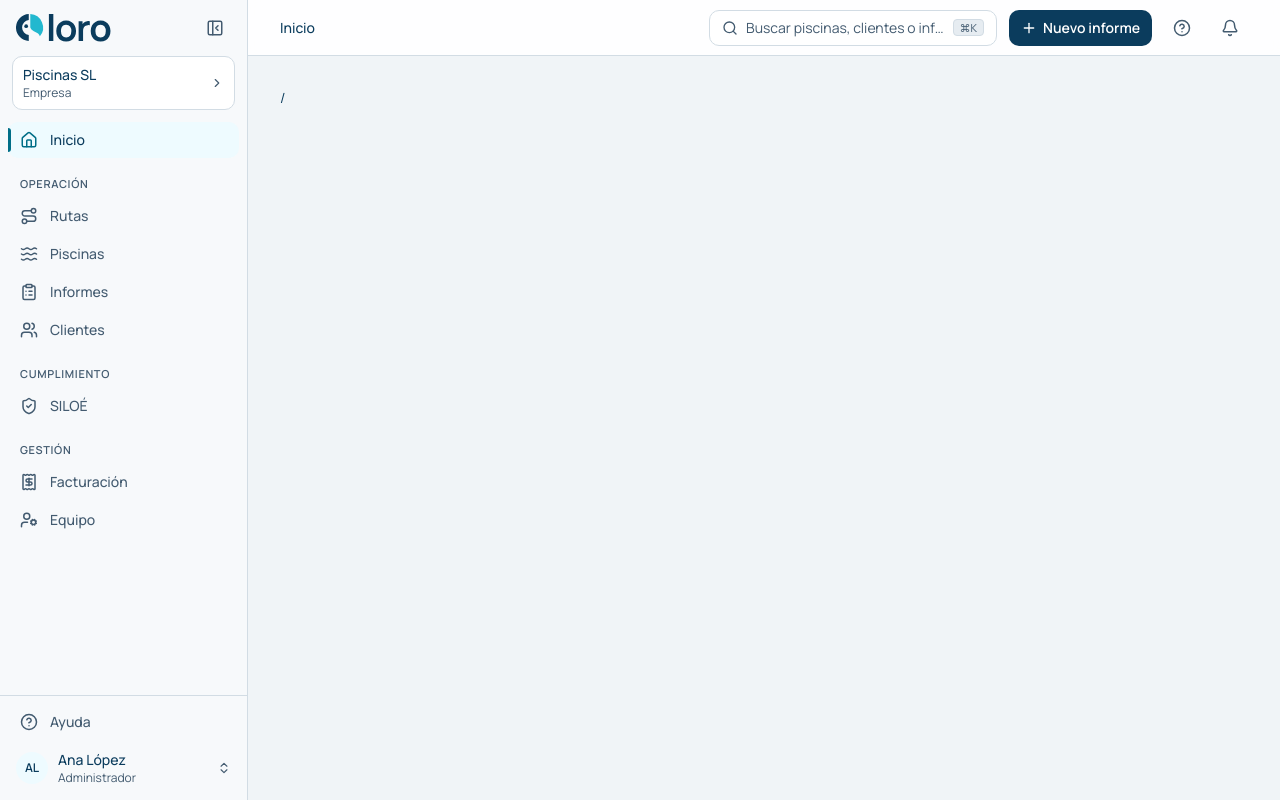
Test: AppShell command palette › deep-links a search into Informes
Press k
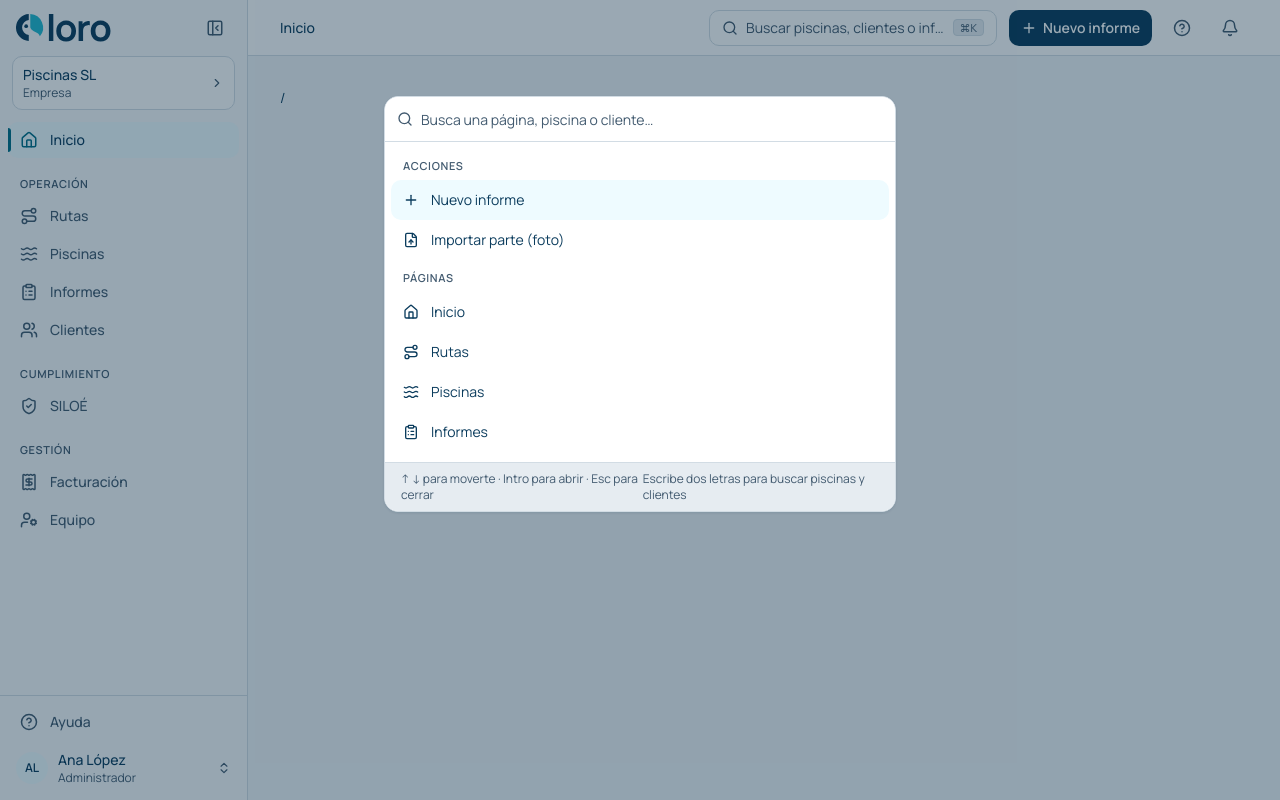
In the dropdown named "Ir a una página": [652, 119] box x1=421 y1=97 x2=883 y2=141, type "villa"
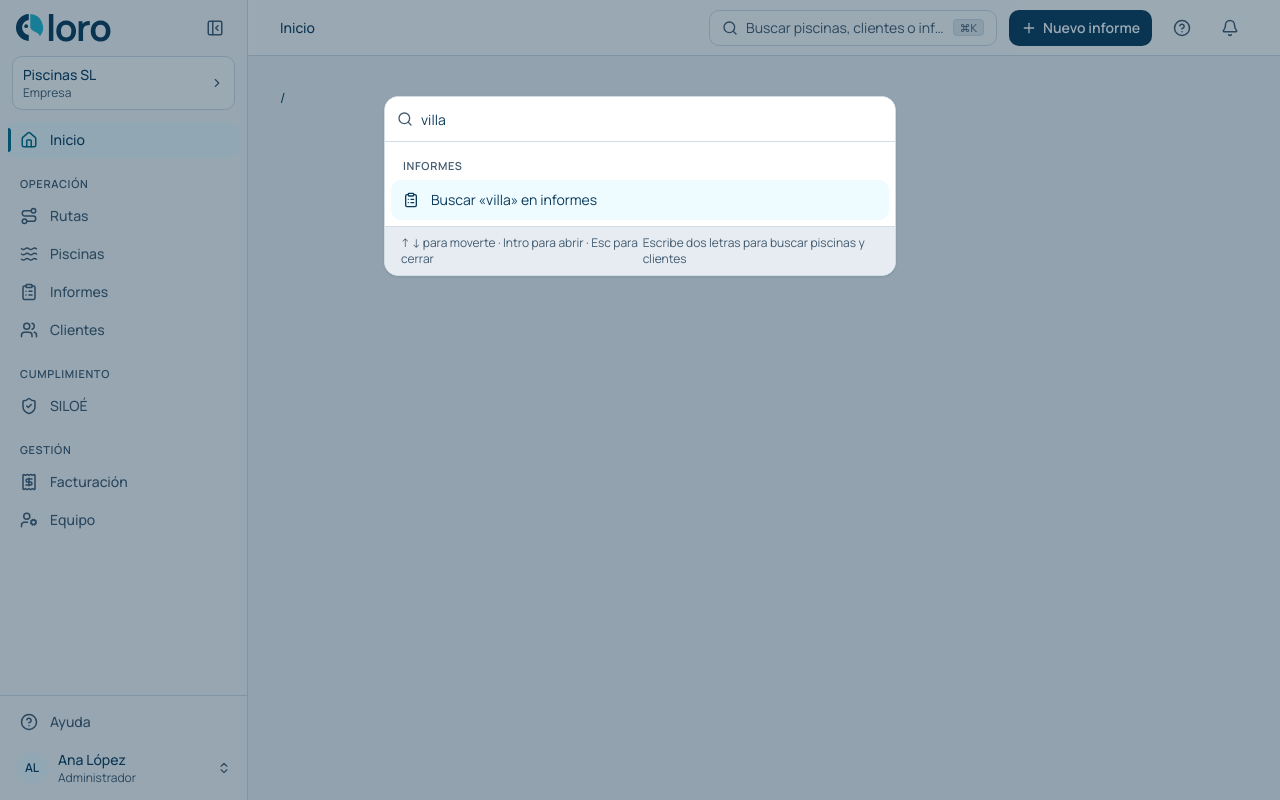
Click the option "Buscar «villa» en informes": [514, 200] box x1=391 y1=180 x2=889 y2=220
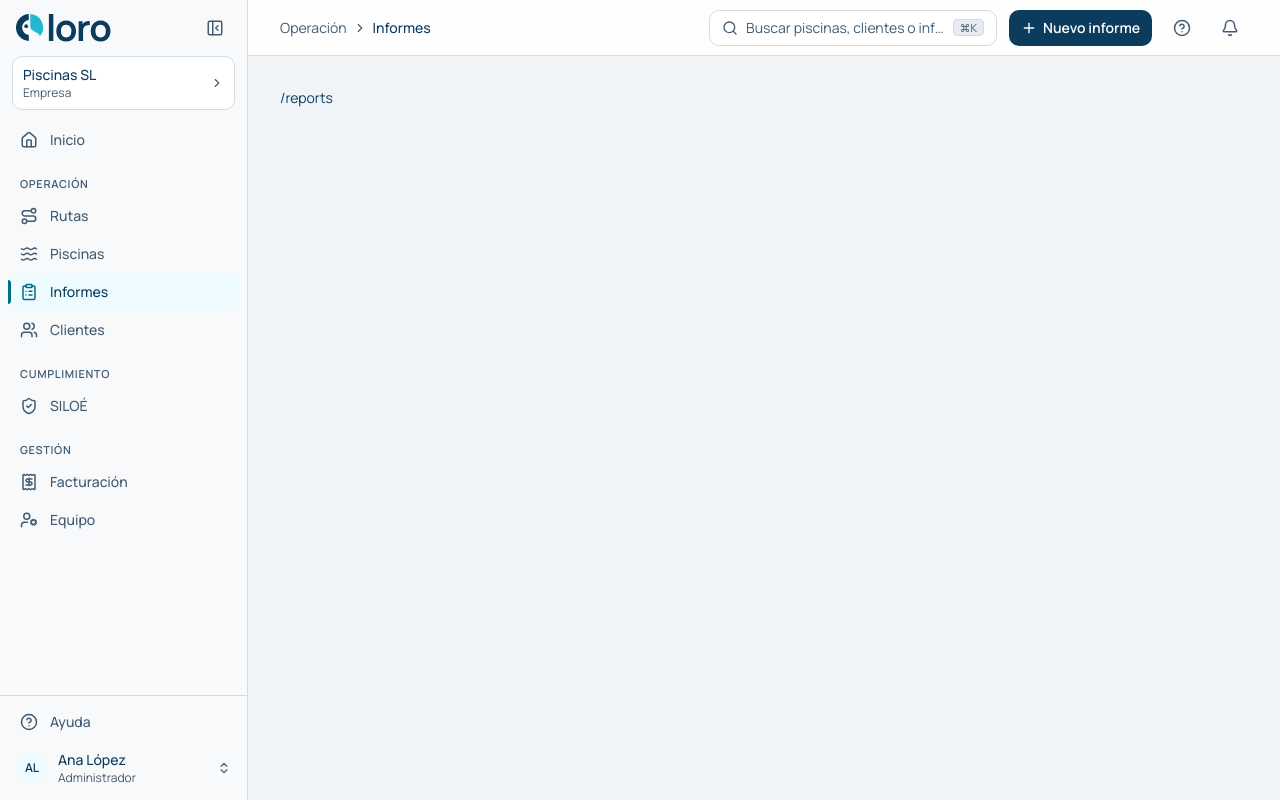
Expected: the text with test id "where" reads "/reports", x1=280 y1=88 x2=333 y2=107
